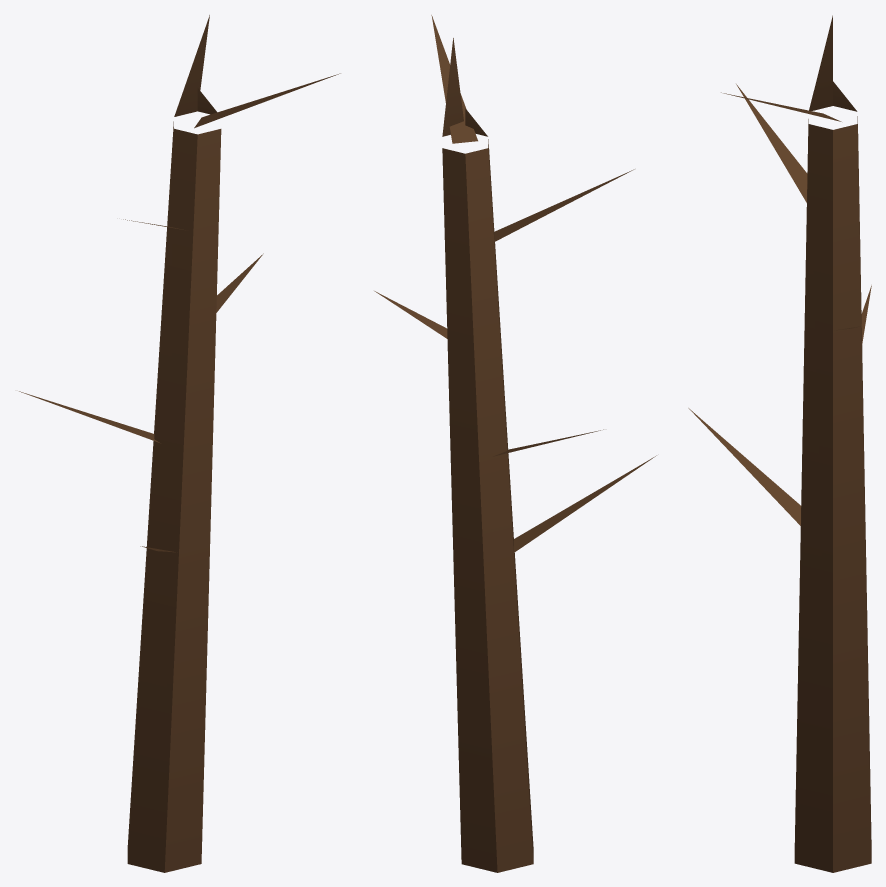
The picture shows the model from 3 angles, left to right: view 1: azimuth 30°, elevation 25°; view 2: azimuth 150°, elevation 25°; view 3: azimuth 270°, elevation 25°; orthographic projection. The views are drawn at different scales.
Visible parts, largest first — view 1: prop_pine_dead; view 2: prop_pine_dead; view 3: prop_pine_dead.
Part boxes in pixels (box(x1,y1,x2,y2)): prop_pine_dead: box(19, 15, 340, 872); prop_pine_dead: box(374, 15, 656, 872); prop_pine_dead: box(688, 15, 871, 872).
Size of the model in its own units: 1.97 by 6.11 by 1.19.
